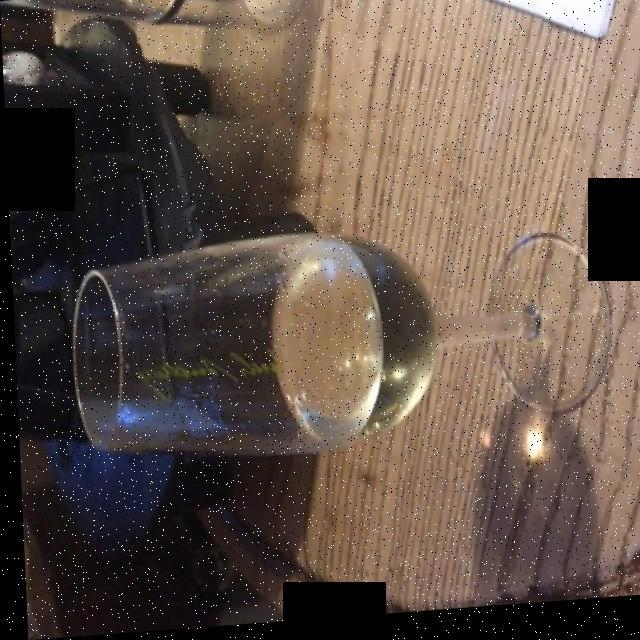wine: (277, 259, 437, 439), (282, 241, 422, 445)
